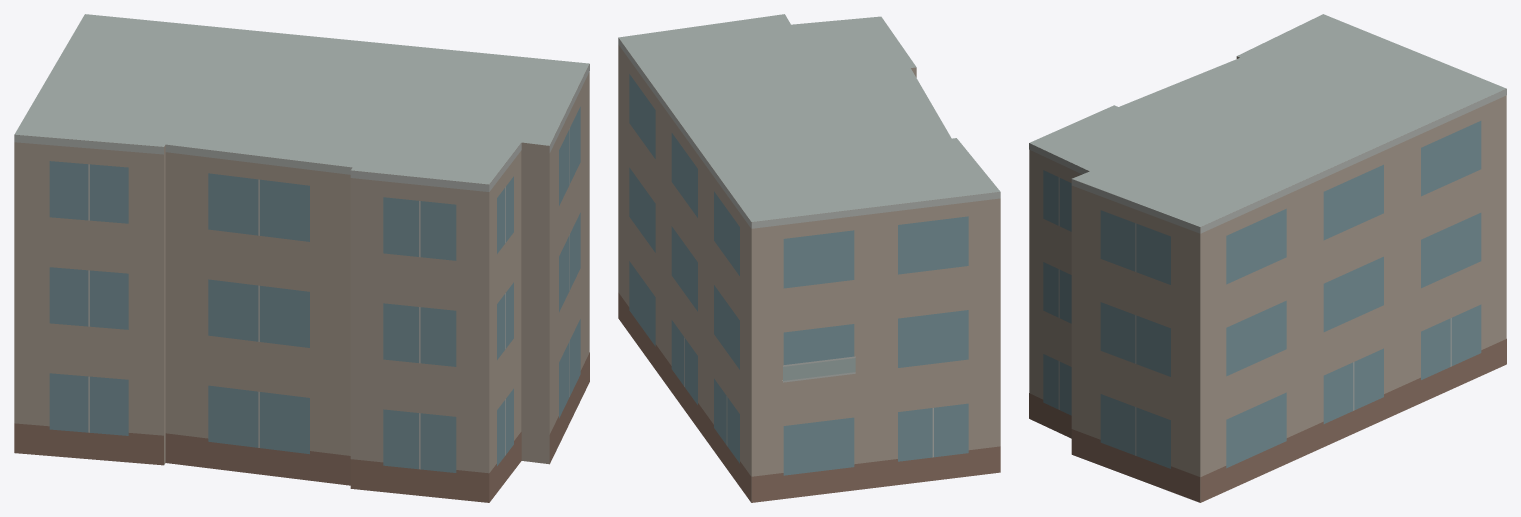
The model's file is survey-upis-32978385.glb.
The picture shows the model from 3 angles, left to right: view 1: azimuth 30°, elevation 25°; view 2: azimuth 150°, elevation 25°; view 3: azimuth 270°, elevation 25°; orthographic projection. The views are drawn at different scales.
Parts seen in each view (by area): view 1: survey-upis-32978385.tmp; view 2: survey-upis-32978385.tmp; view 3: survey-upis-32978385.tmp.
Boxes of the visible parts, x1,y1,x2,y2 form: survey-upis-32978385.tmp: (14,14,589,502); survey-upis-32978385.tmp: (618,14,1000,502); survey-upis-32978385.tmp: (1029,14,1506,502).
Size of the model in its own units: 16.92 by 10.2 by 16.02.
